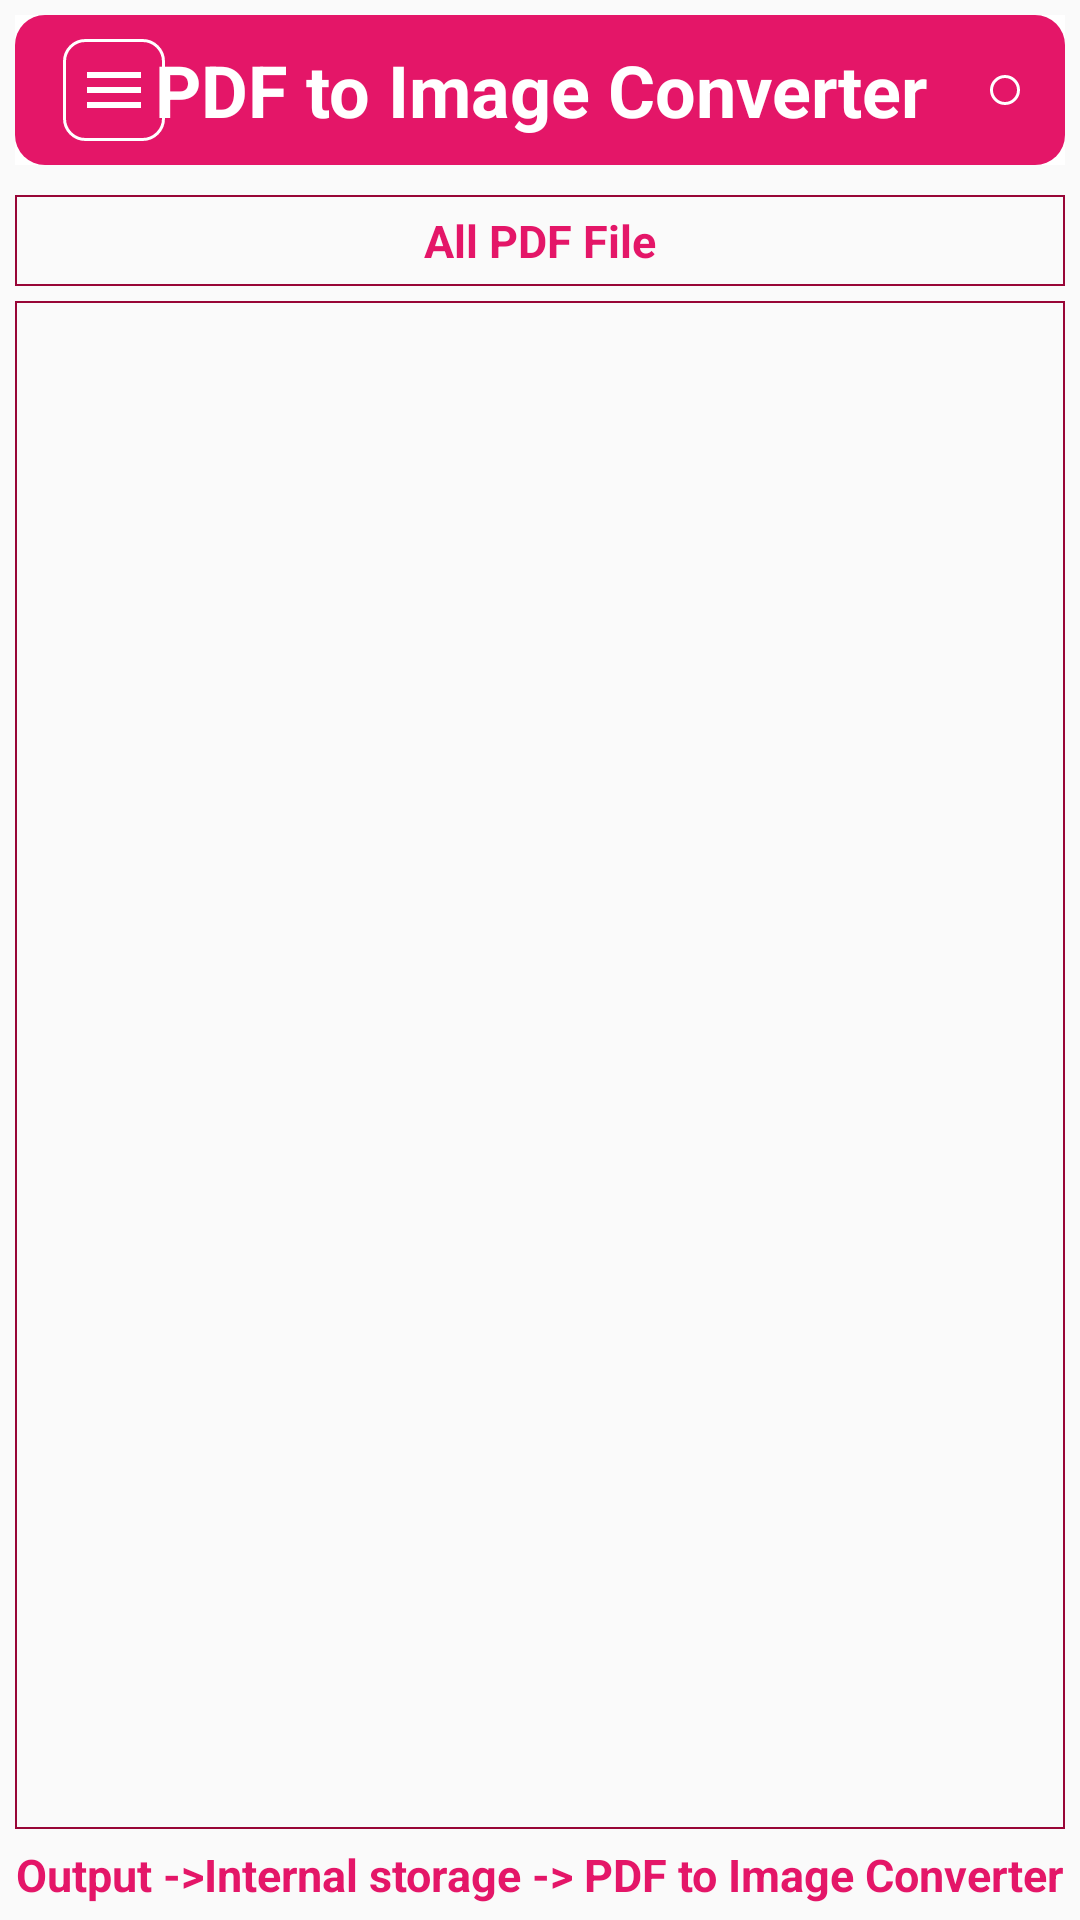

Icons on this 1080*1920 Android screen, each with the point to tap as (x=x, y=y):
menu: (x=114, y=90)
